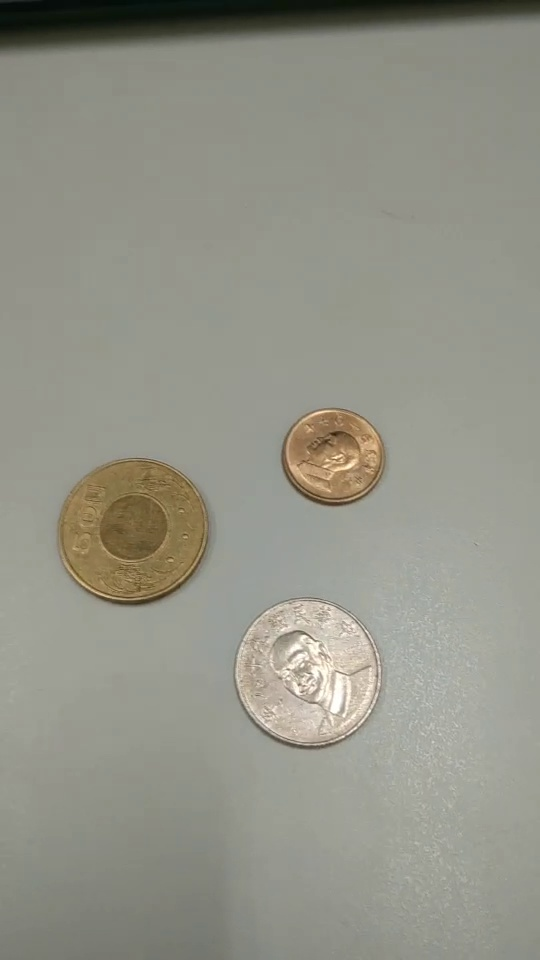NT$ 1: (282, 411, 390, 506)
NT$ 10: (233, 597, 379, 748)
NT$ 50: (63, 459, 210, 608)
